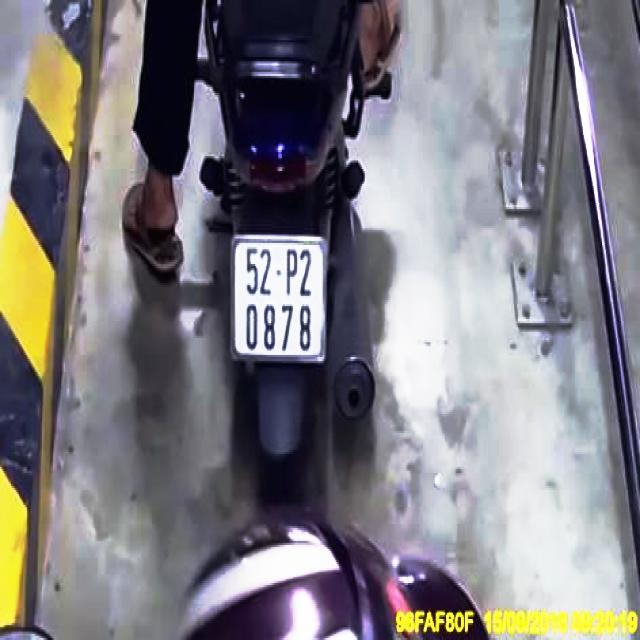license_plate: (235, 241, 324, 363)
